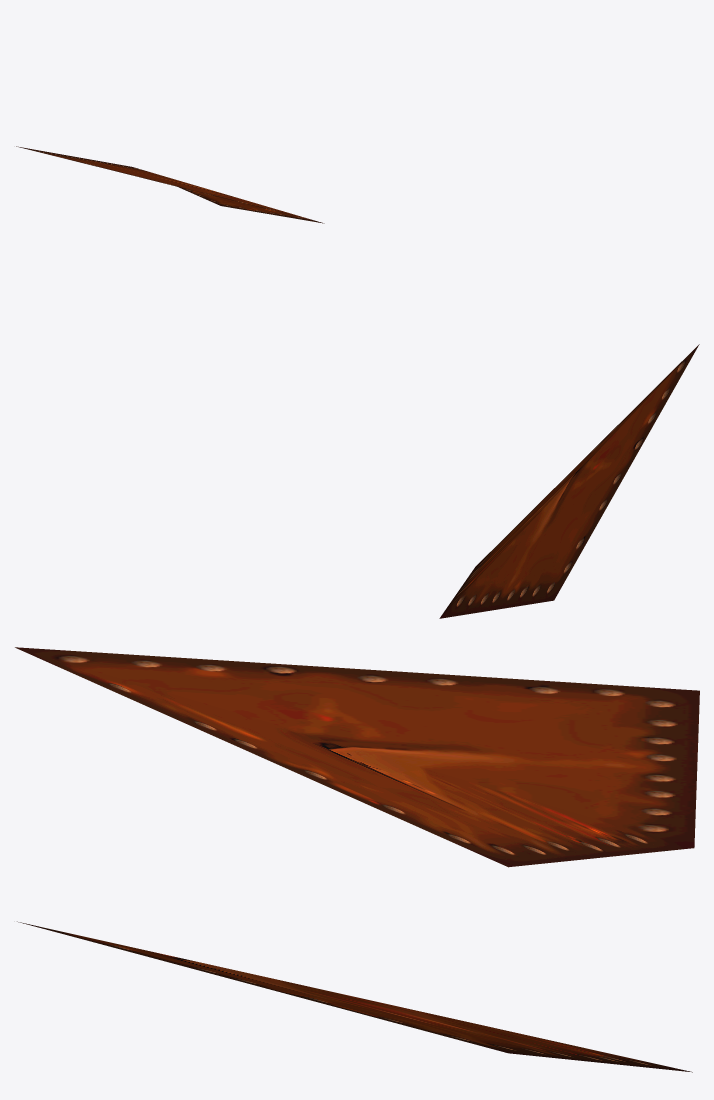
The model's file is Schiff_Heck8_1266.glb.
The picture shows the model from 3 angles, top to bottom: view 1: azimuth 30°, elevation 25°; view 2: azimuth 150°, elevation 25°; view 3: azimuth 270°, elevation 25°; orthographic projection. The views are drawn at different scales.
Parts seen in each view (by area): view 1: pPlaneShape22; view 2: pPlaneShape22; view 3: pPlaneShape22, pPlaneShape43.
Part boxes in pixels (left/top/right/bottom): pPlaneShape22: left=16, top=146, right=324, bottom=223; pPlaneShape22: left=439, top=344, right=699, bottom=618; pPlaneShape22: left=15, top=647, right=699, bottom=867; pPlaneShape43: left=17, top=921, right=692, bottom=1072.
Bounding box in the file's own units: 2.04 × 0.4233 × 1.49.
Materials: 2 (2 with a texture image).
